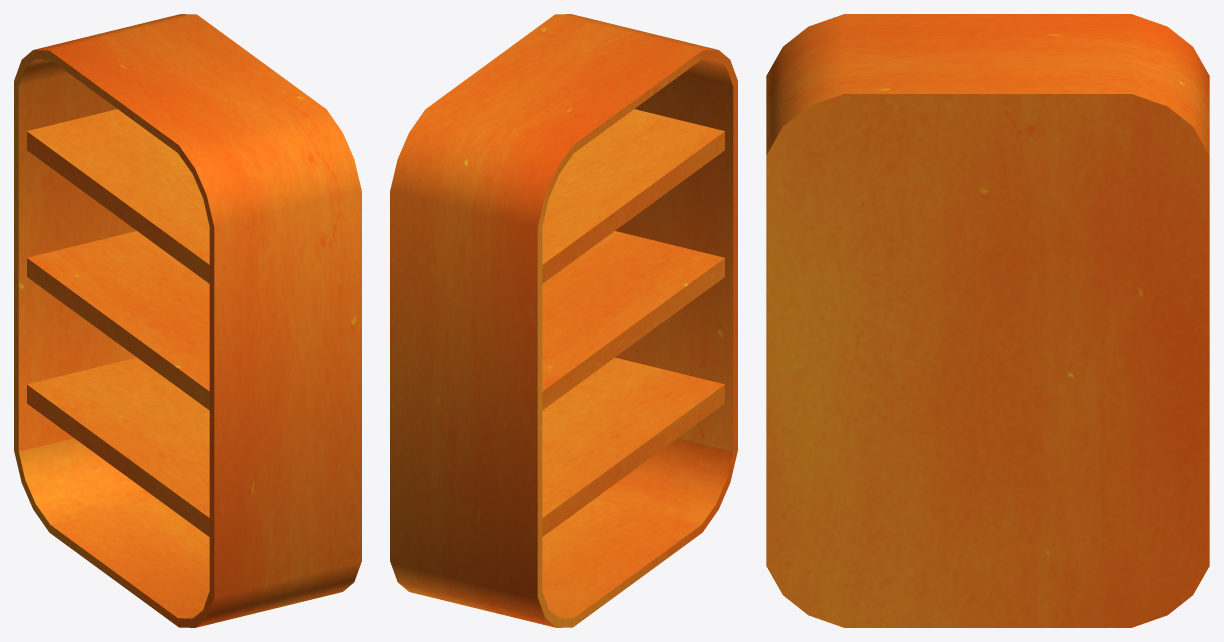
The model's file is bookshelf.fbx.
The picture shows the model from 3 angles, left to right: view 1: azimuth 30°, elevation 25°; view 2: azimuth 150°, elevation 25°; view 3: azimuth 270°, elevation 25°; orthographic projection. The views are drawn at different scales.
Visible parts, largest first — view 1: bookshelf; view 2: bookshelf; view 3: bookshelf.
Boxes of the visible parts, left/top/right/bottom form: bookshelf: left=14, top=14, right=361, bottom=627; bookshelf: left=390, top=14, right=737, bottom=627; bookshelf: left=766, top=14, right=1209, bottom=627.
Bounding box in the file's own units: 61.03 × 190 × 143.
